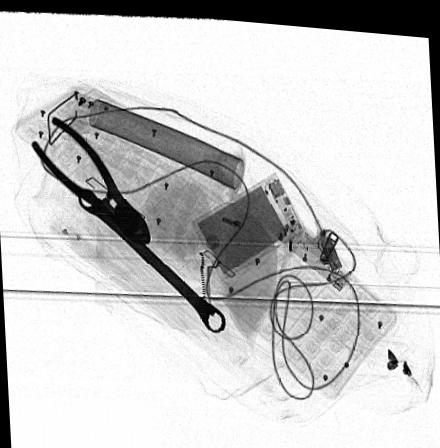Pliers: (29, 114, 153, 244)
Powerbank: (193, 168, 307, 278)
Wrench: (77, 185, 227, 332)
